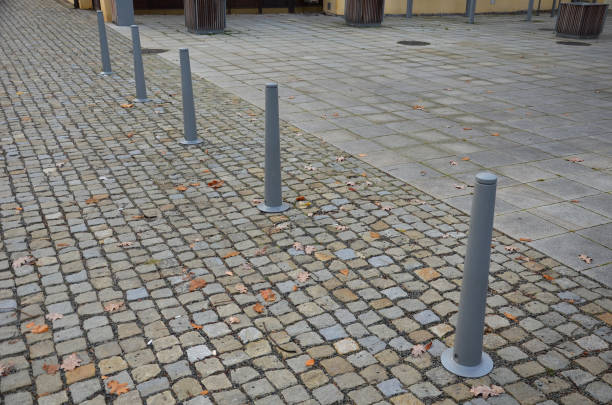bollard: (439, 170, 497, 383), (252, 79, 300, 219), (169, 47, 206, 150), (125, 23, 153, 105), (94, 10, 117, 79)
